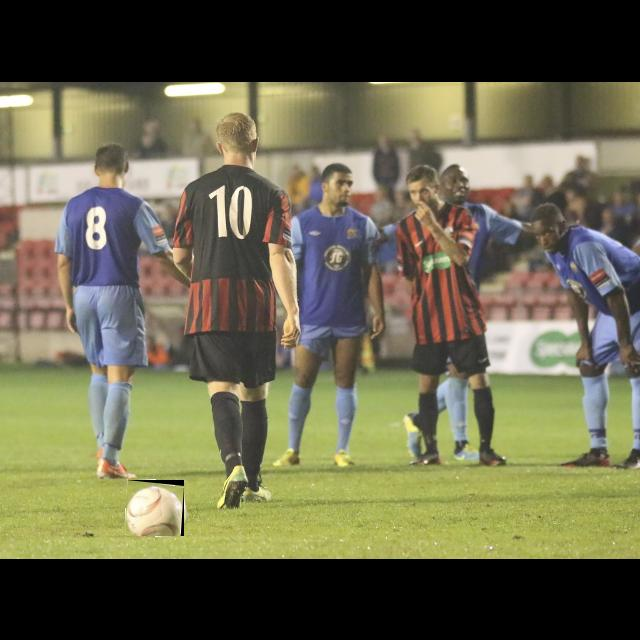Football: (126, 480, 184, 536)
